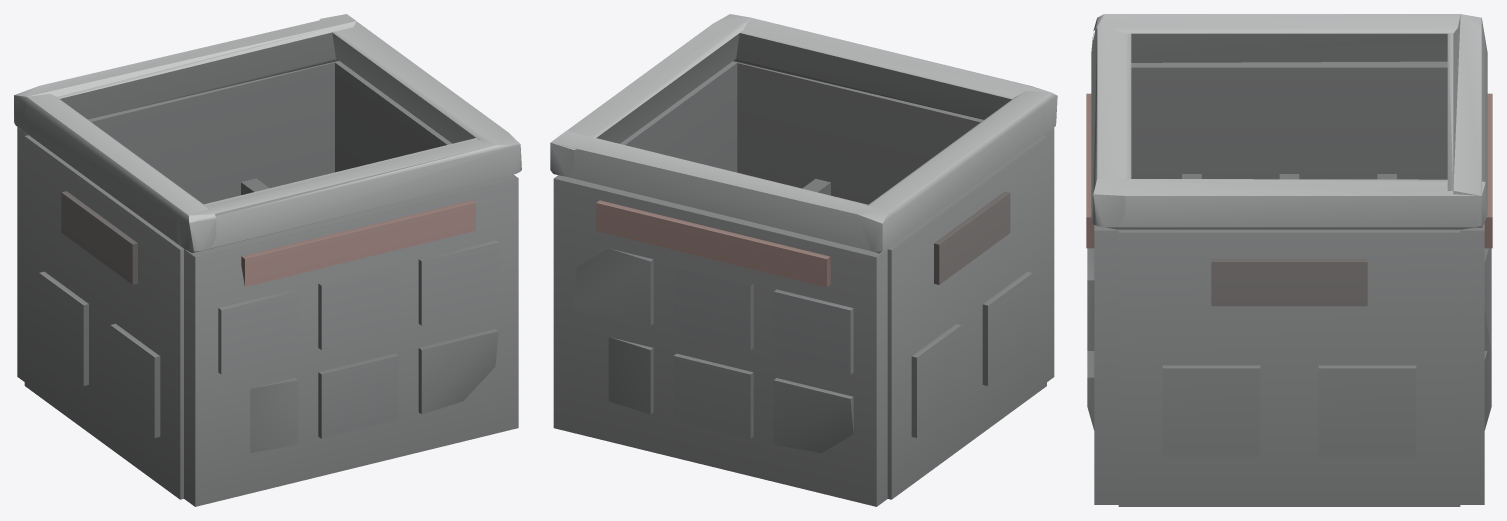
Rendered from crate.lod1.glb.
The picture shows the model from 3 angles, left to right: view 1: azimuth 30°, elevation 25°; view 2: azimuth 150°, elevation 25°; view 3: azimuth 270°, elevation 25°; orthographic projection. The views are drawn at different scales.
Bounding box in the file's own units: 0.444 × 0.358 × 0.416.
